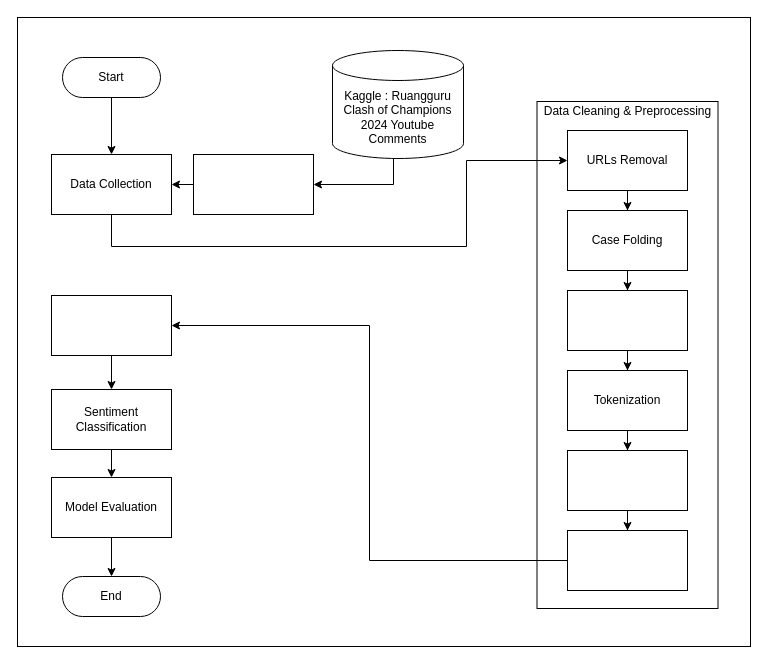
Image size: 768x664. Some labels were removed from this diagram. The box of each missing label's shape, as (x1, y1, x2, y2) in pixels:
Data Sampling: (192, 154, 314, 214)
Feature Extraction: (50, 294, 172, 356)
Normalization: (566, 530, 688, 590)
Punctuation Removal: (566, 290, 688, 350)
Stop-word Removal: (566, 450, 688, 510)
